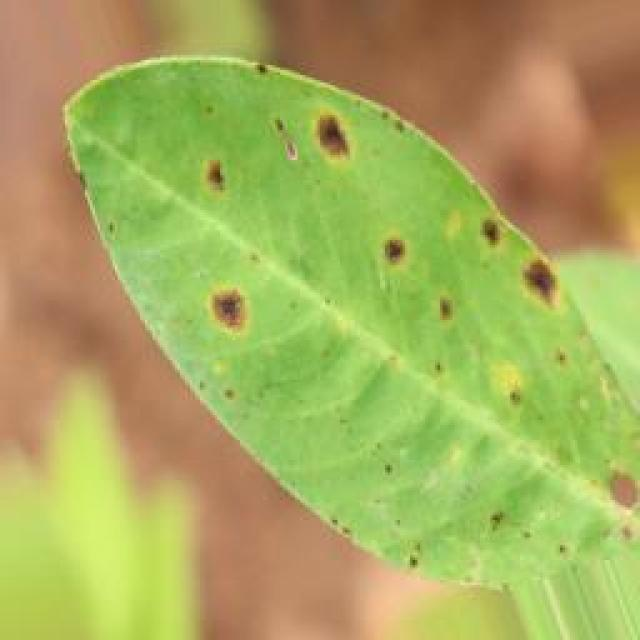Early_leaf_spot: (463, 185, 590, 341), (277, 79, 364, 182), (192, 257, 272, 365), (569, 417, 640, 522), (404, 254, 472, 335), (476, 340, 544, 419), (370, 194, 426, 279), (194, 134, 250, 208)
